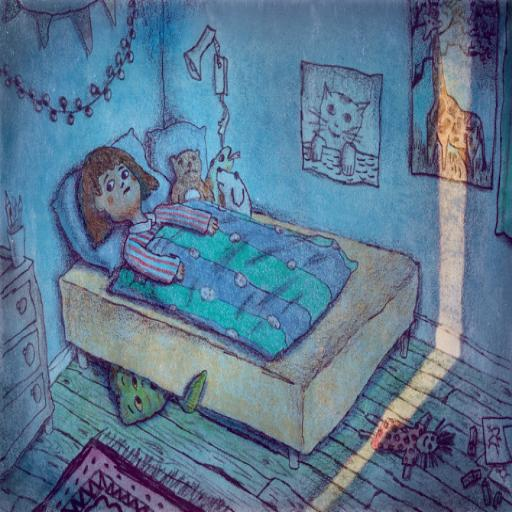person: (70, 140, 221, 292)
